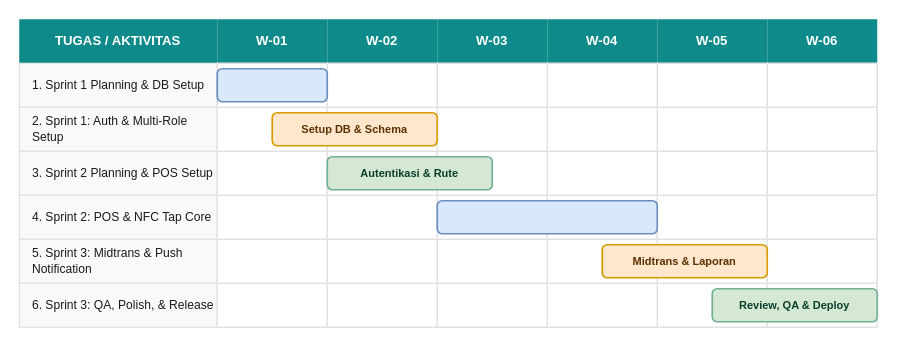
Image size: 898x347. Some labels were removed from this diagram. Each missing label, with the centre of its shape:
"POS & Transaksi NFC" goes at [547,216].
"Sprint 1 Setup" goes at [272,84].
